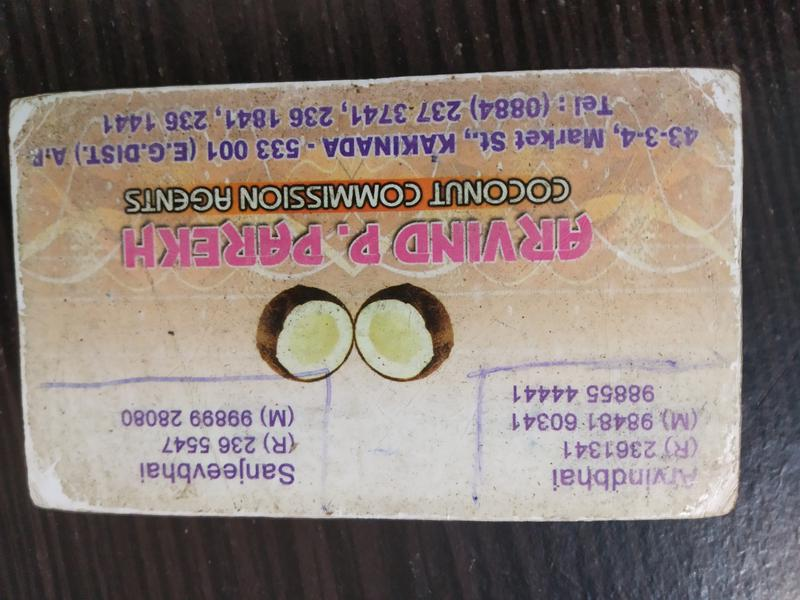card: (11, 66, 748, 524)
